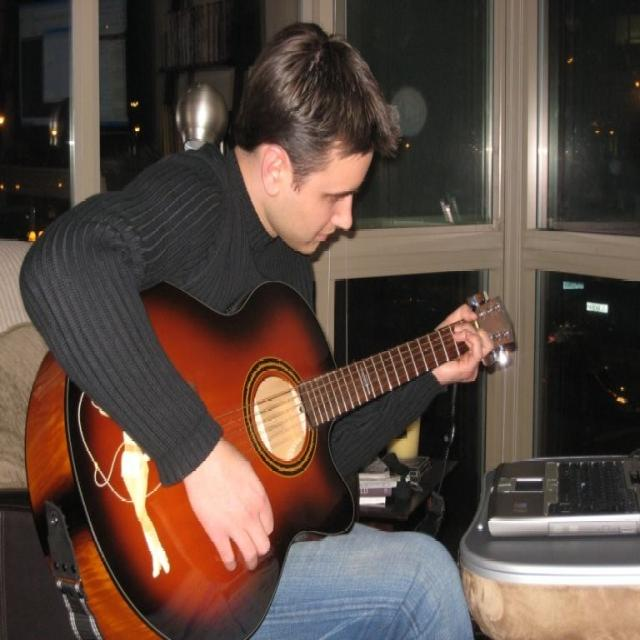guitar: (24, 272, 520, 640)
